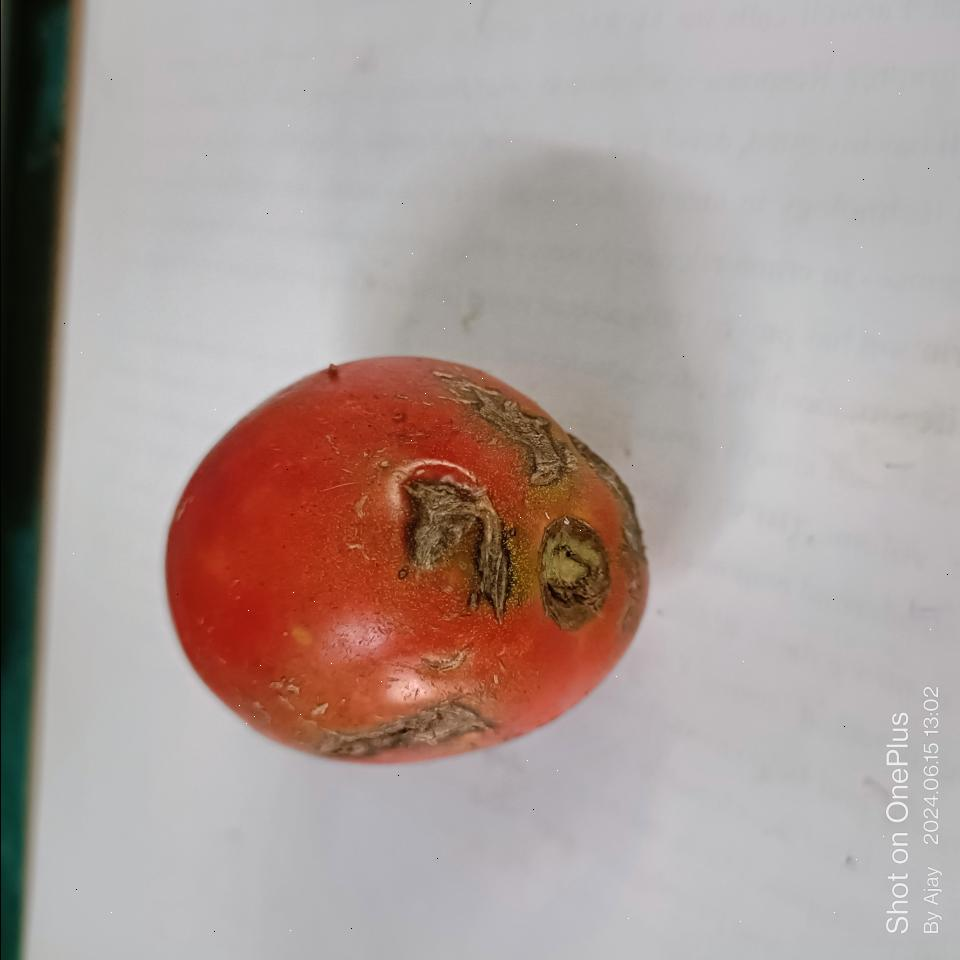Bacterial_Spot: (388, 466, 514, 624), (535, 514, 609, 635), (388, 704, 492, 746), (525, 432, 566, 486), (334, 736, 370, 762), (478, 394, 501, 426), (447, 378, 465, 398)
